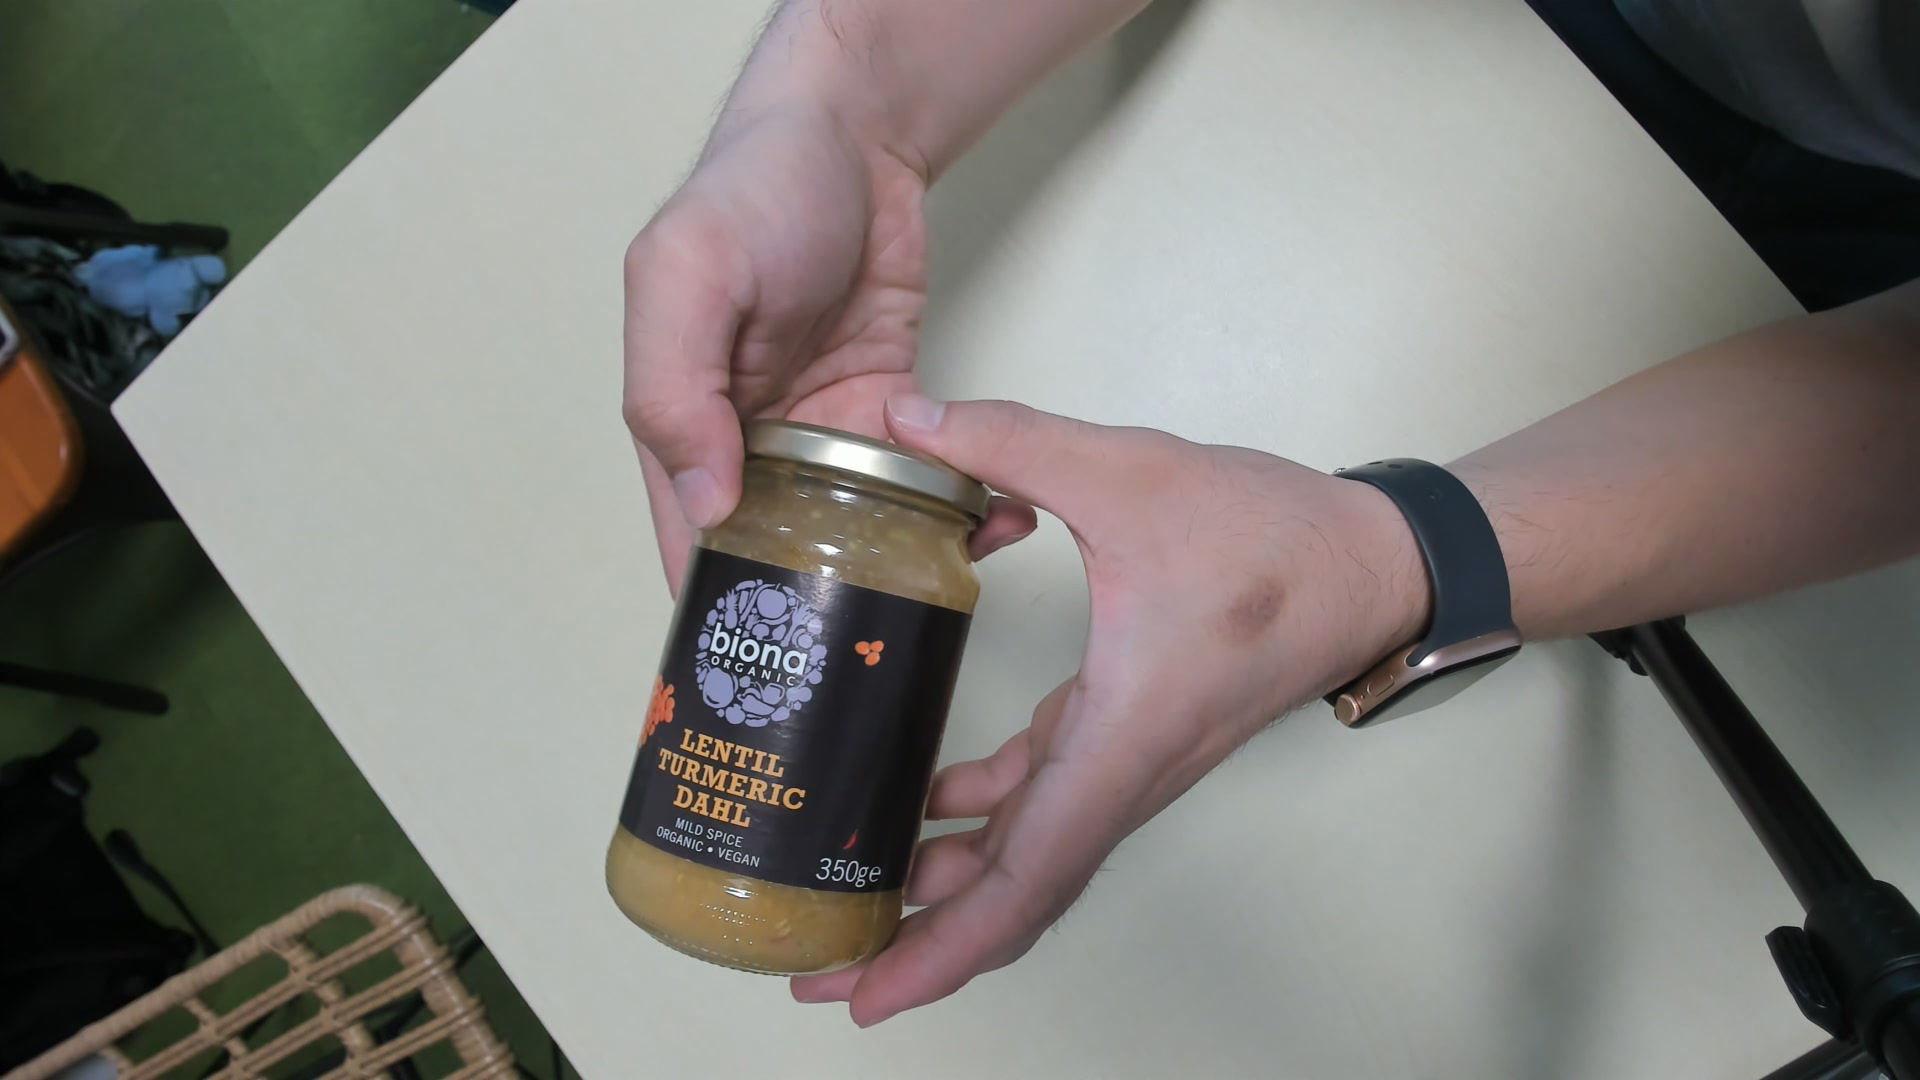OtherSauceDressing_300-399g_NonHalal_NonHealthy: (605, 400, 986, 968)
